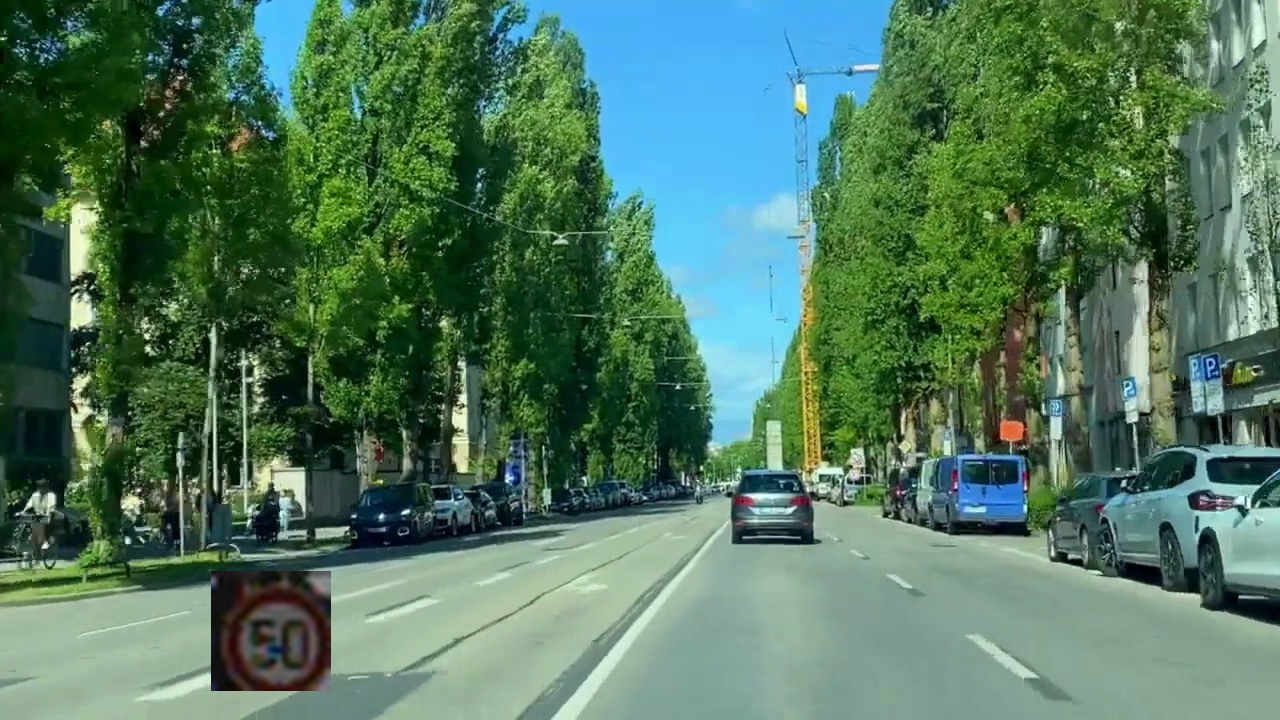Speed 50: (211, 571, 331, 691)
